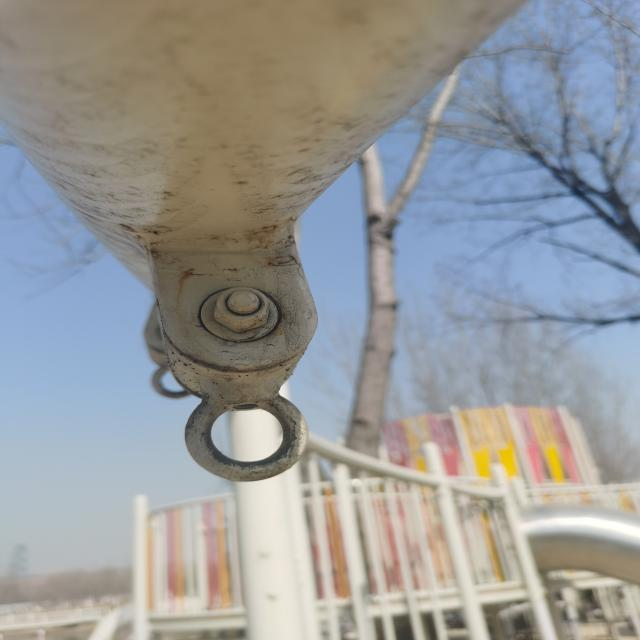bolt nut: (210, 283, 272, 334)
